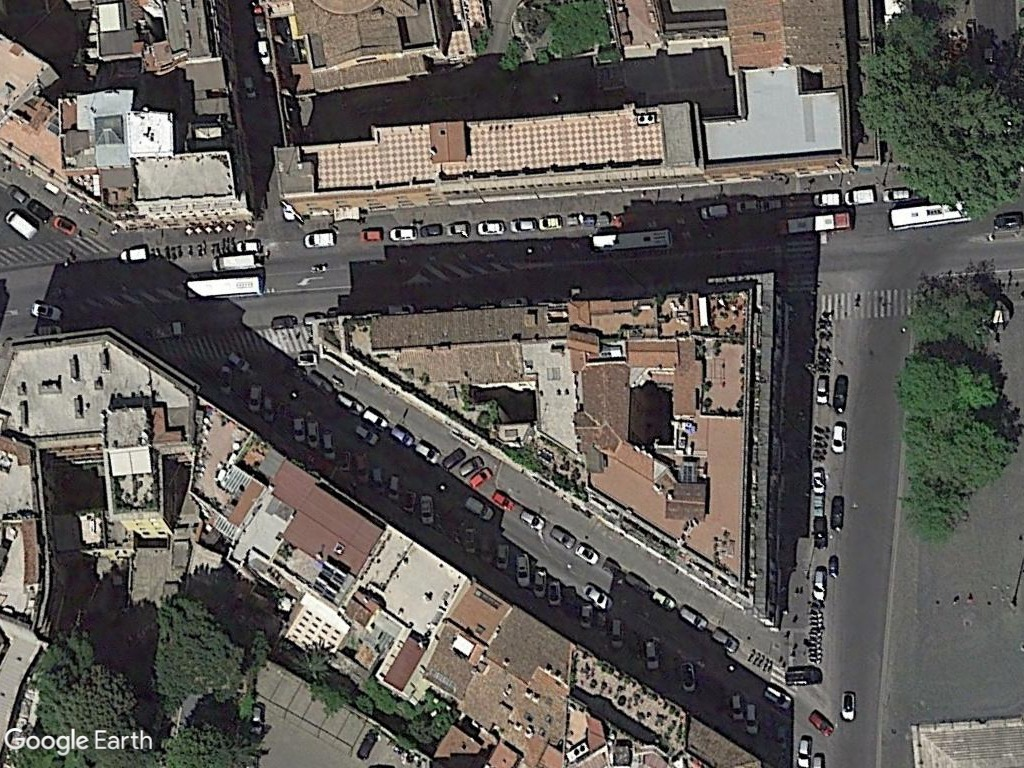bus: (883, 202, 979, 231), (588, 227, 677, 256), (774, 211, 859, 238), (183, 275, 267, 301)
car: (461, 490, 498, 525), (710, 621, 743, 656), (678, 601, 711, 635), (333, 386, 366, 420), (581, 579, 615, 611), (516, 503, 550, 535), (48, 208, 83, 239), (489, 480, 520, 515), (761, 682, 797, 711), (548, 519, 577, 554), (831, 370, 853, 416), (805, 708, 837, 739), (360, 401, 392, 432), (455, 452, 486, 484), (826, 490, 848, 535), (826, 417, 851, 456), (351, 416, 382, 447), (27, 299, 66, 323), (676, 657, 700, 695), (649, 582, 678, 613), (742, 698, 763, 740), (810, 513, 832, 553), (514, 547, 534, 591), (641, 636, 664, 674), (609, 611, 628, 657), (387, 420, 417, 449), (439, 442, 467, 473), (351, 445, 371, 488), (877, 182, 914, 205), (4, 180, 31, 211), (811, 370, 831, 411), (318, 424, 339, 463), (414, 438, 443, 466), (418, 488, 437, 530), (574, 539, 601, 568), (115, 246, 152, 267), (725, 689, 746, 726), (697, 200, 733, 221), (838, 688, 858, 725), (239, 69, 260, 104), (303, 414, 322, 452), (990, 210, 1024, 231), (811, 561, 828, 603), (506, 213, 537, 236), (290, 412, 309, 449), (254, 36, 275, 69), (546, 574, 565, 610), (474, 217, 508, 237), (417, 219, 449, 240), (468, 464, 492, 492), (536, 210, 565, 233), (386, 469, 403, 508), (810, 465, 830, 498), (244, 381, 263, 415), (268, 314, 301, 333), (386, 223, 417, 243), (494, 537, 510, 575), (796, 733, 813, 768), (758, 192, 785, 214), (217, 363, 233, 400), (446, 218, 475, 238), (356, 226, 386, 244), (732, 196, 762, 214), (230, 238, 264, 253)
other: (781, 660, 820, 690)
truck: (1, 206, 39, 242), (208, 251, 265, 273)
van: (842, 181, 882, 208), (301, 230, 338, 249), (809, 189, 843, 209)
